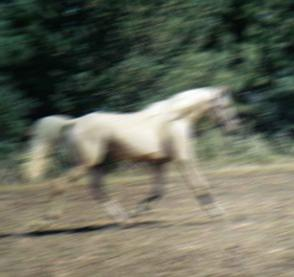horse: (20, 81, 240, 230)
